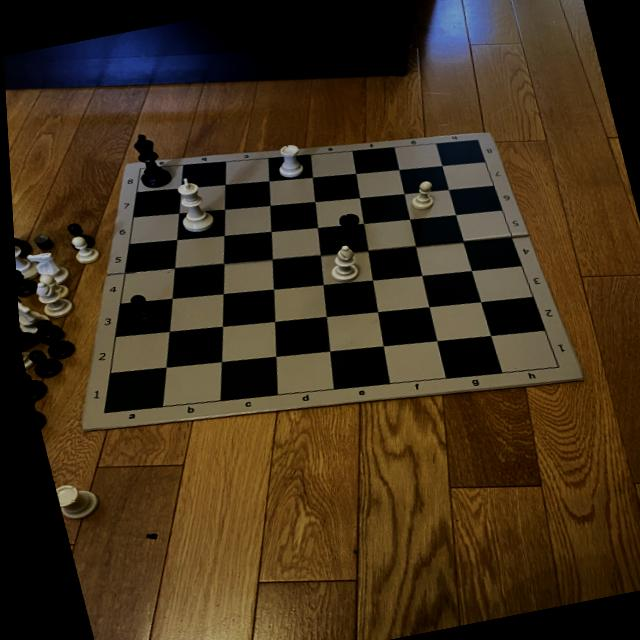Chessboard-Corners: (545, 361, 563, 372), (91, 408, 110, 418), (468, 134, 483, 146), (131, 165, 144, 173)
